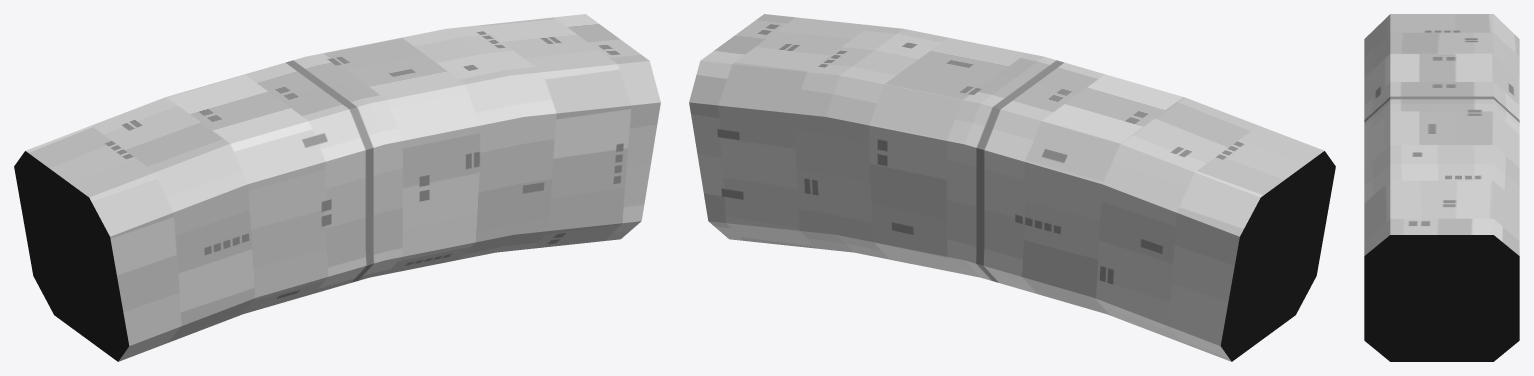
File: ring03.final.fbx
3 renders of one model, left to right at view 1: azimuth 30°, elevation 25°; view 2: azimuth 150°, elevation 25°; view 3: azimuth 270°, elevation 25°, orthographic. The views are drawn at different scales.
Parts seen in each view (by area): view 1: ring03.final; view 2: ring03.final; view 3: ring03.final.
Part boxes in pixels (x1,y1,x2,y2): ring03.final: [14, 14, 660, 361]; ring03.final: [689, 14, 1335, 361]; ring03.final: [1364, 14, 1519, 361].
Bounding box in the file's own units: 2519 × 847 × 748.
1 material, 1 textured.
